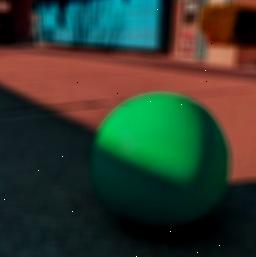algae: (85, 88, 230, 230)
